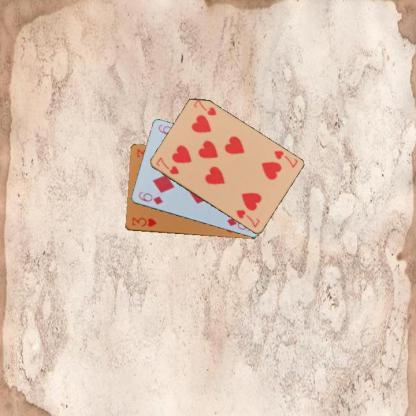3h: (130, 215, 157, 228)
6d: (136, 189, 164, 206)
7h: (153, 154, 182, 176), (272, 148, 298, 169)
